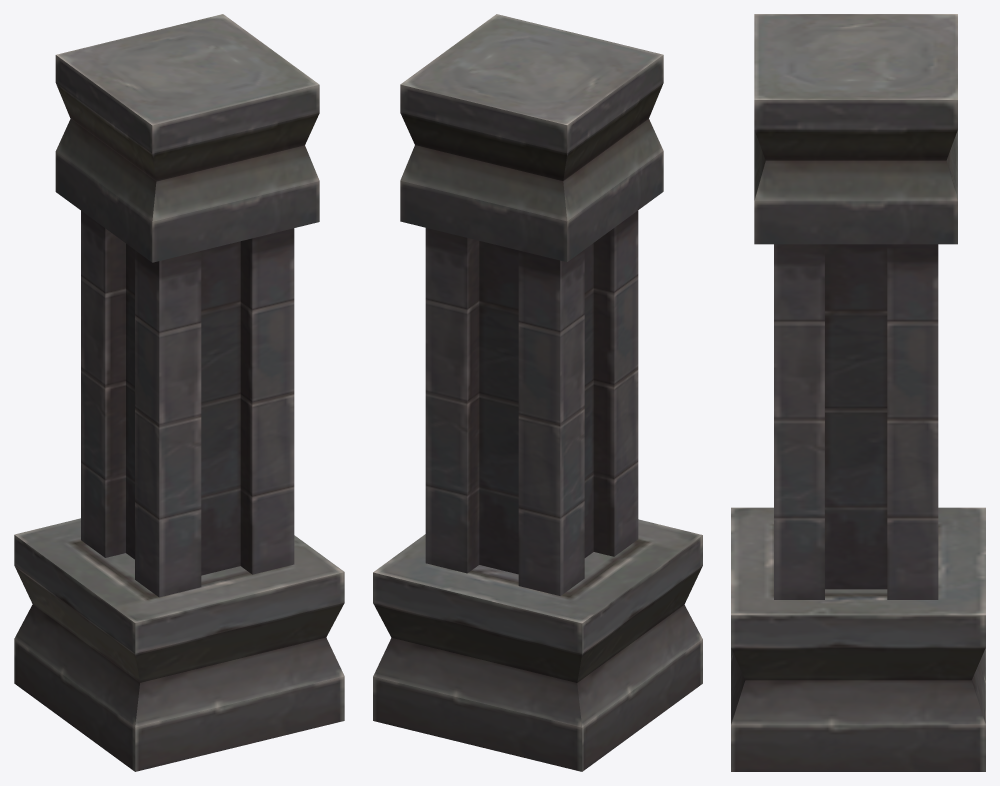
File: zhuzi_sm.FBX
The picture shows the model from 3 angles, left to right: view 1: azimuth 30°, elevation 25°; view 2: azimuth 150°, elevation 25°; view 3: azimuth 270°, elevation 25°; orthographic projection. The views are drawn at different scales.
Visible parts, largest first — view 1: zhuzi07; view 2: zhuzi07; view 3: zhuzi07.
Boxes of the visible parts, <box> form: zhuzi07: <box>14,14,344,771</box>; zhuzi07: <box>373,14,702,771</box>; zhuzi07: <box>731,14,985,771</box>.
Bounding box in the file's own units: 142 × 410 × 142.
